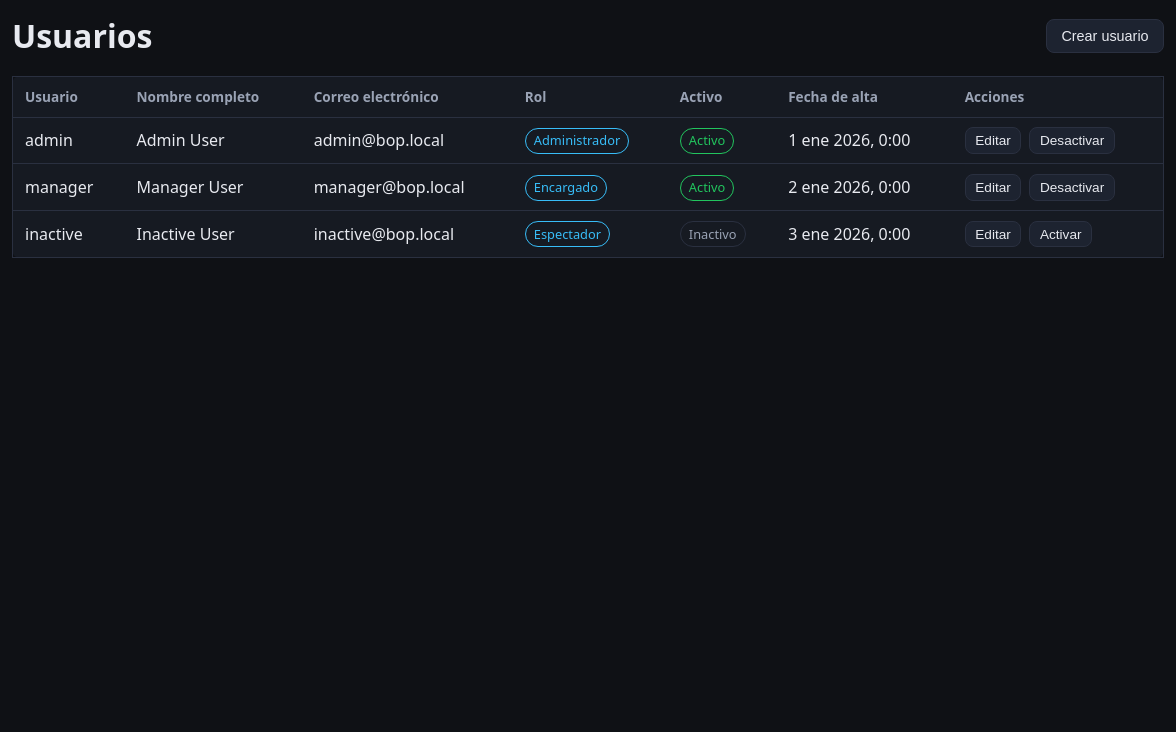
Scenario: R-UI-USR-3: edit user › R-UI-USR-3: deactivate another user → confirm gate → PATCH {active:false}, row shows inactive
The image size is (1176, 732).
Check: the table is shown, box [12,76,1164,258]
Check: the row that starts with "manager" is shown, box [12,164,1164,211]
Click the button "Desactivar" in the row of "Manager User" at (1072, 187), box [1029,174,1115,201]
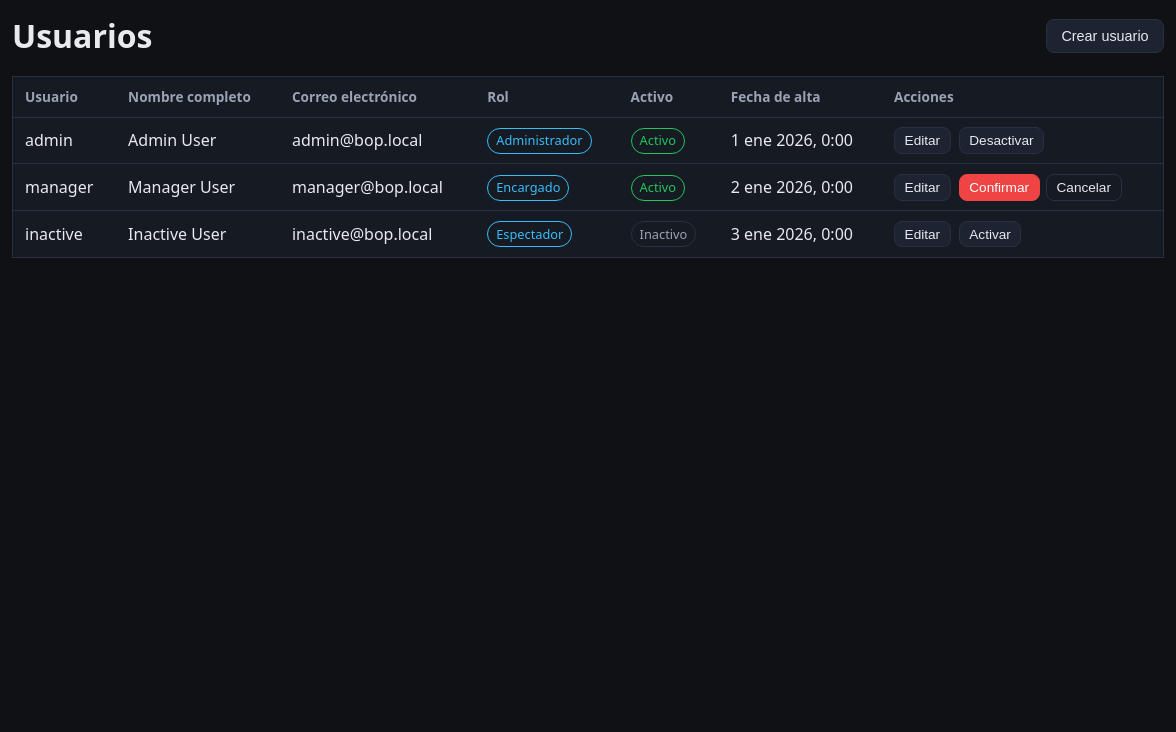
Click the button "Confirmar" at (999, 187), box [959,174,1040,201]
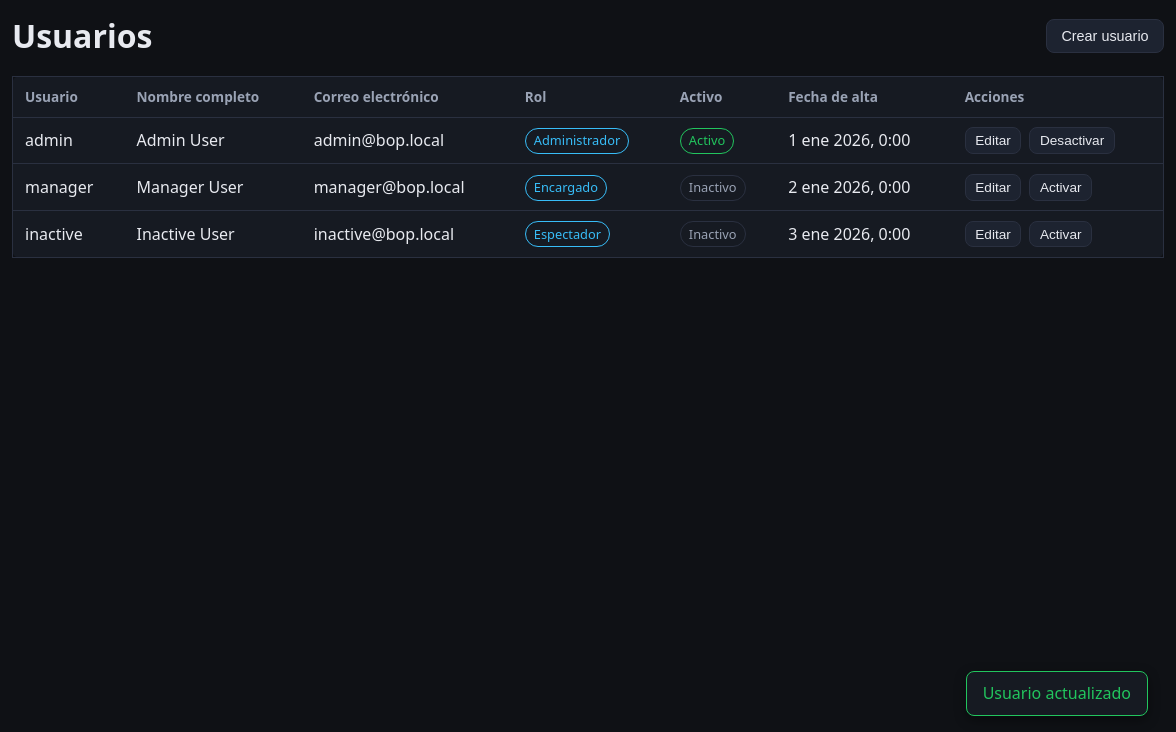
Check: the text "Inactivo" in the row of "Manager User" is shown, box [689,178,736,196]
